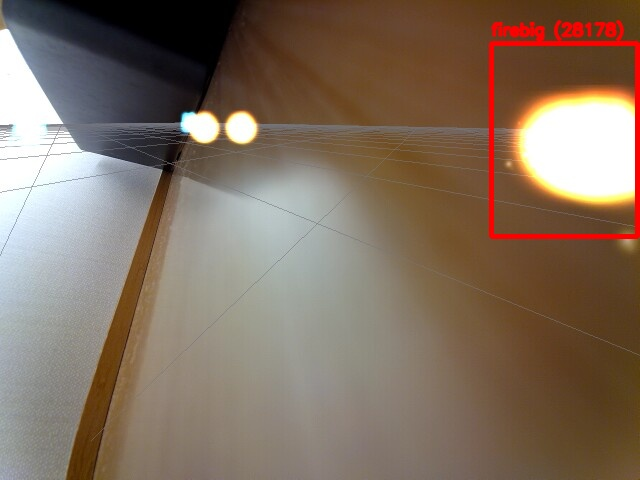firebig: (491, 43, 637, 236)
